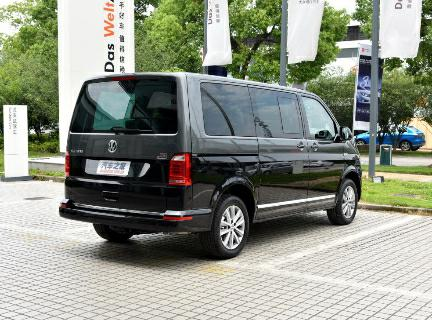大众-迈特威: (58, 65, 371, 260)
